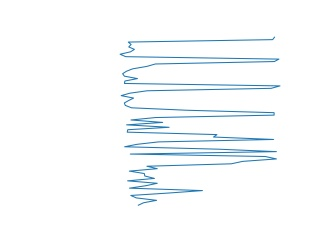crevasseRiverChannelBar: (122, 159, 278, 205)
majorRiverBedLagDeposit: (119, 120, 283, 163)
majorRiverChannelBar: (117, 36, 283, 117)
